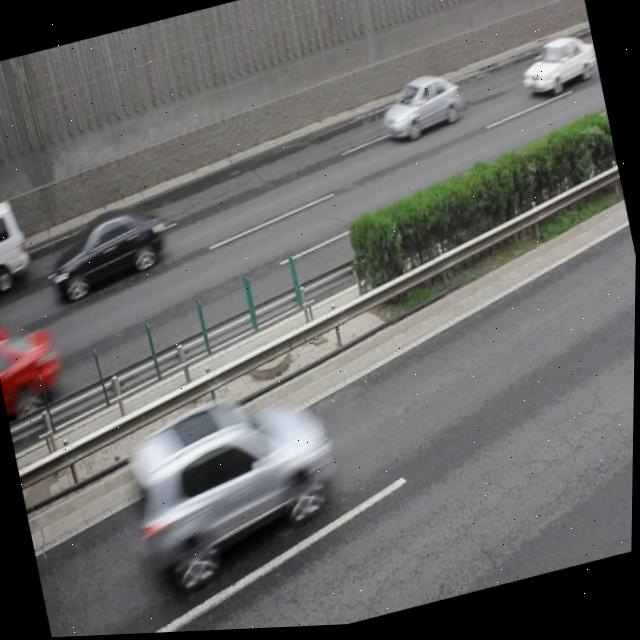car: (117, 379, 346, 598), (45, 200, 174, 306), (375, 70, 464, 149), (514, 35, 597, 108)
truck: (0, 194, 31, 295)
